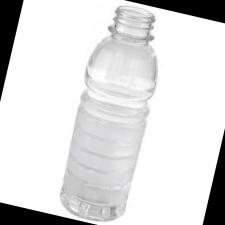plastic: (27, 0, 197, 225)
